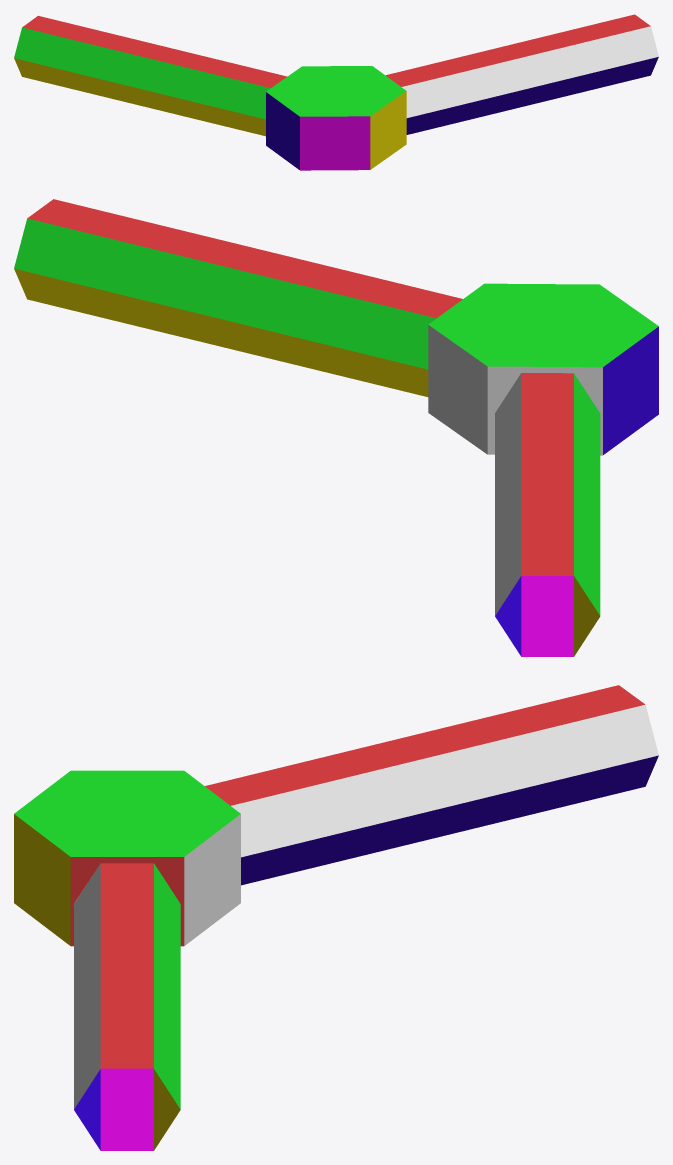
The model's file is HopefullyRoom.fbx.
3 renders of one model, top to bottom at view 1: azimuth 30°, elevation 25°; view 2: azimuth 150°, elevation 25°; view 3: azimuth 270°, elevation 25°, orthographic. The views are drawn at different scales.
Visible parts, largest first — view 1: Cylinder, Cylinder.002, Cylinder.001; view 2: Cylinder, Cylinder.002, Cylinder.001; view 3: Cylinder.002, Cylinder, Cylinder.001.
Part boxes in pixels (bbox=[...]): Cylinder: bbox=[386, 14, 658, 134]; Cylinder.002: bbox=[14, 15, 287, 136]; Cylinder.001: bbox=[266, 66, 406, 170]; Cylinder: bbox=[14, 199, 462, 396]; Cylinder.002: bbox=[495, 373, 600, 656]; Cylinder.001: bbox=[428, 283, 658, 455]; Cylinder.002: bbox=[205, 685, 658, 885]; Cylinder: bbox=[74, 863, 180, 1150]; Cylinder.001: bbox=[14, 770, 240, 946].
Size of the model in its own units: 1731 by 183 by 1199.
